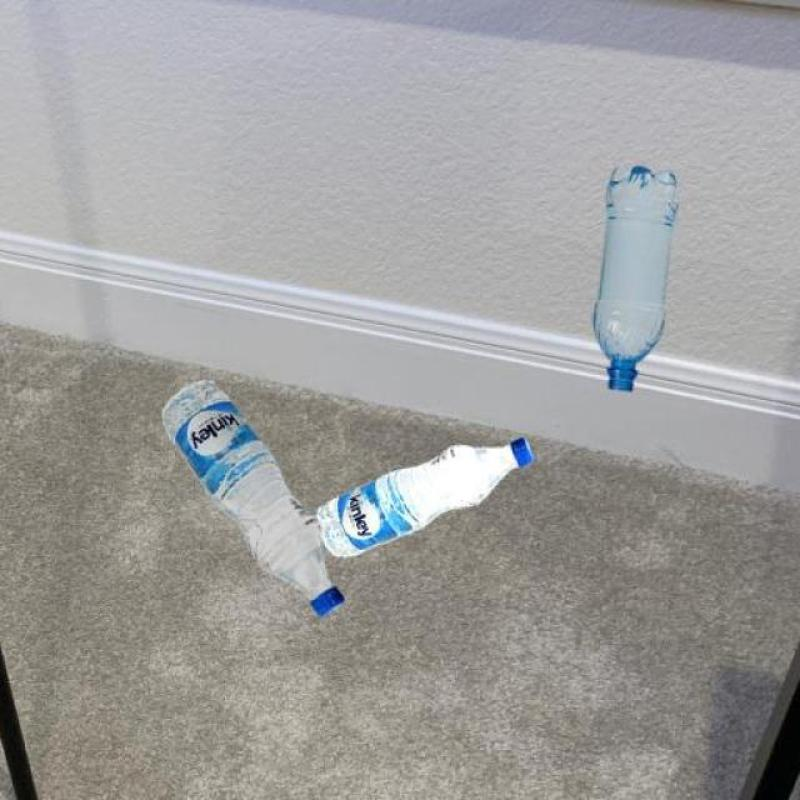botella: (162, 380, 346, 615), (317, 438, 534, 557), (593, 164, 679, 394)
